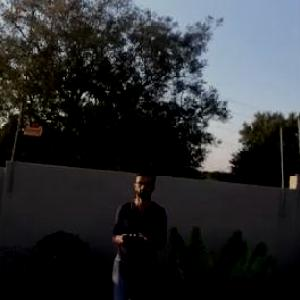follow: (105, 161, 172, 299)
